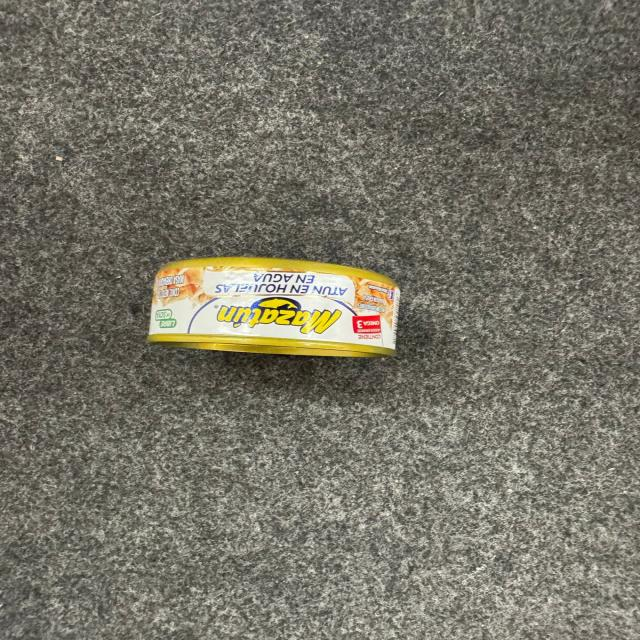Atun Mazatun Agua Sin Soya 130grs: (146, 255, 399, 358)
